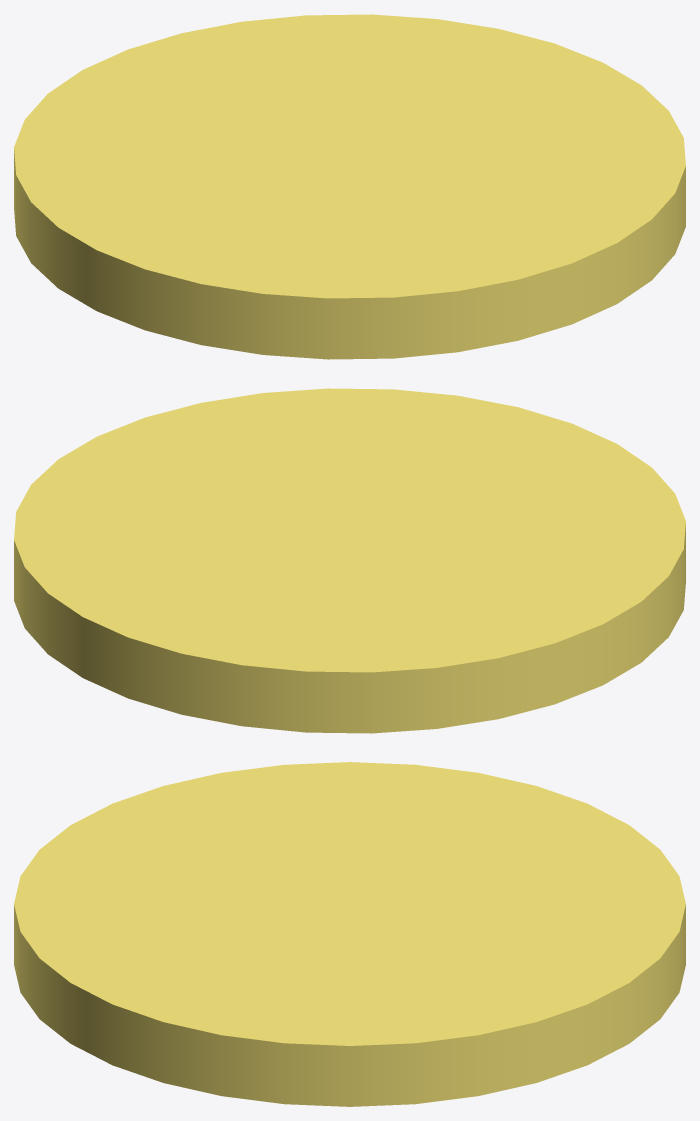
The model's file is coin.glb.
3 renders of one model, top to bottom at view 1: azimuth 30°, elevation 25°; view 2: azimuth 150°, elevation 25°; view 3: azimuth 270°, elevation 25°, orthographic.
Size of the model in its own units: 1 by 0.1 by 1.
